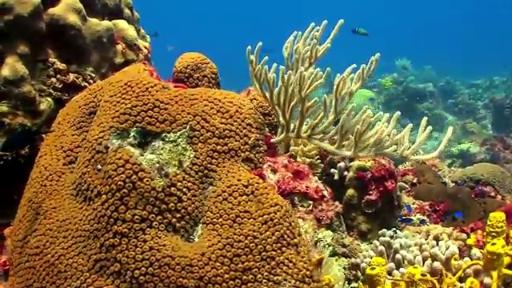Fish: (445, 212, 464, 222), (398, 216, 415, 224), (352, 28, 368, 36), (404, 204, 412, 214), (454, 212, 463, 219), (148, 32, 159, 37), (419, 219, 427, 225), (368, 97, 376, 102)
